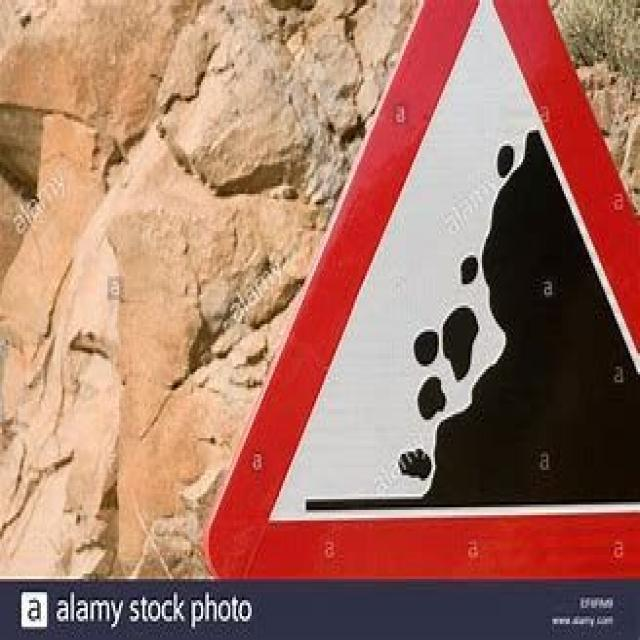FALLING_ROCKS: (205, 0, 640, 576)
